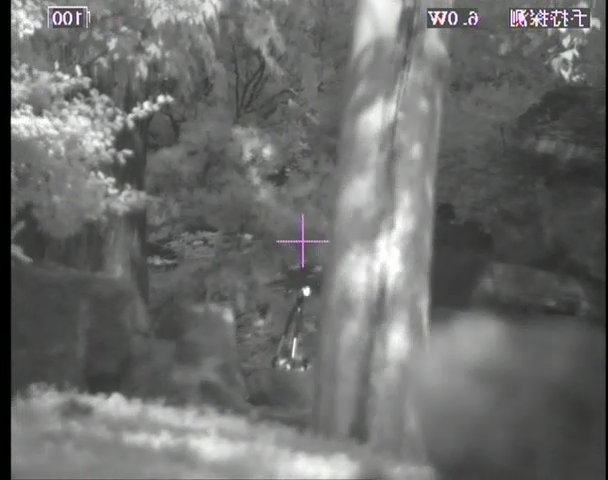my: (302, 285, 312, 297)
